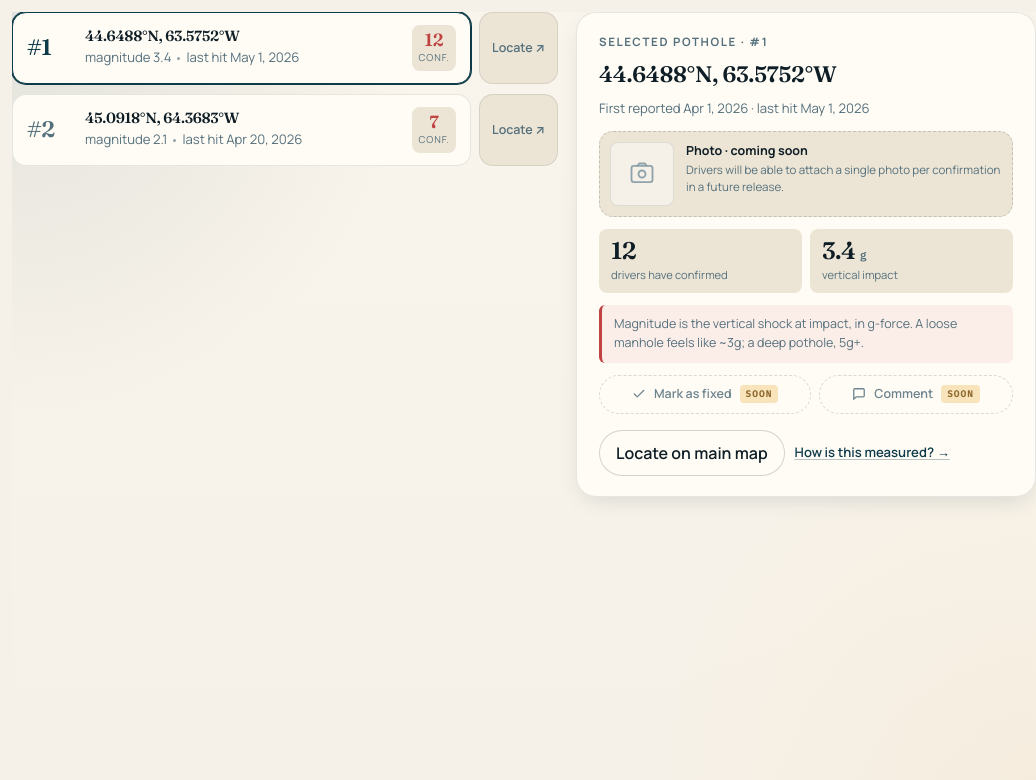
Test: potholes explorer — client interactions › updates the detail card when a row is clicked
Expected: the heading with test id "pothole-detail-coords" shows "44.6488", [599,60,836,88]
Click the button with aria-label "pothole #2" at (242, 130), box [12,94,471,166]
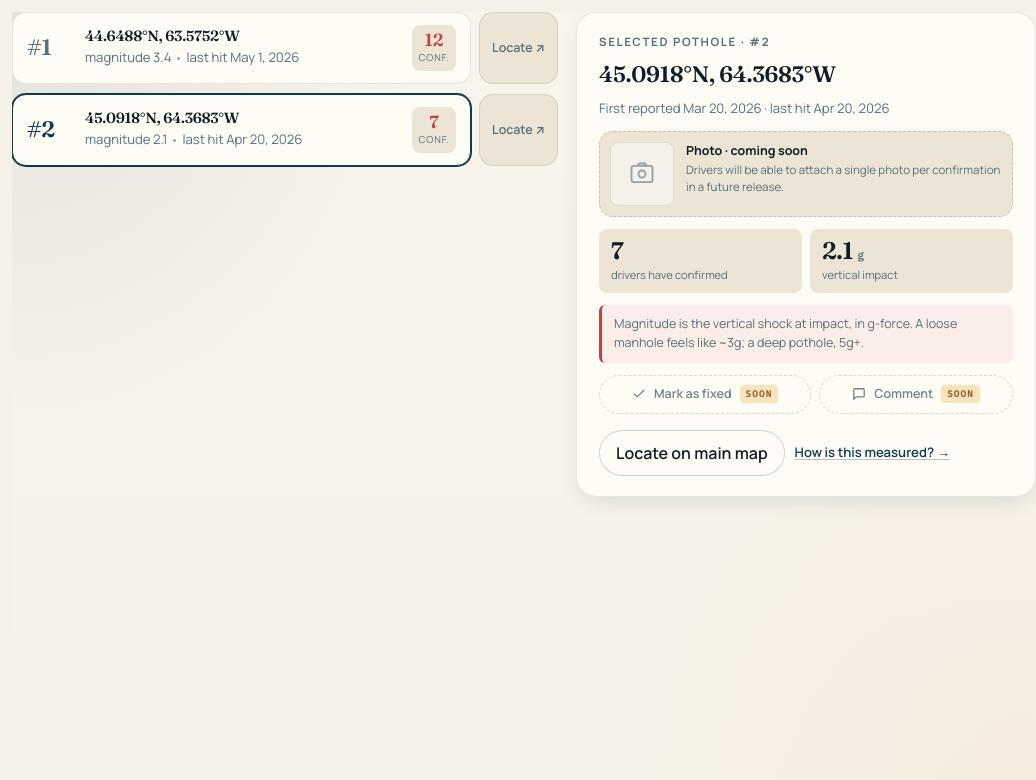
Expected: the heading with test id "pothole-detail-coords" shows "45.0918", [599,60,836,88]
